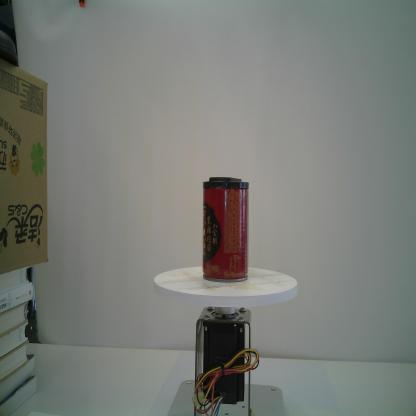Canned Food: (200, 173, 249, 284)
